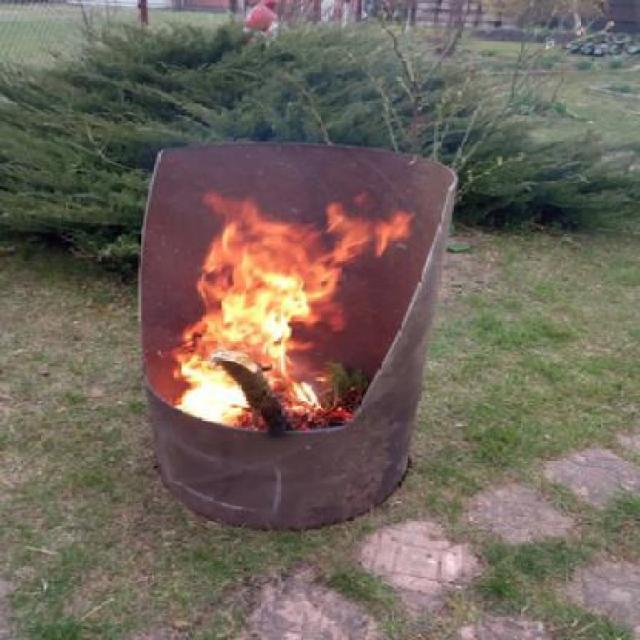fire: (176, 189, 333, 431)
